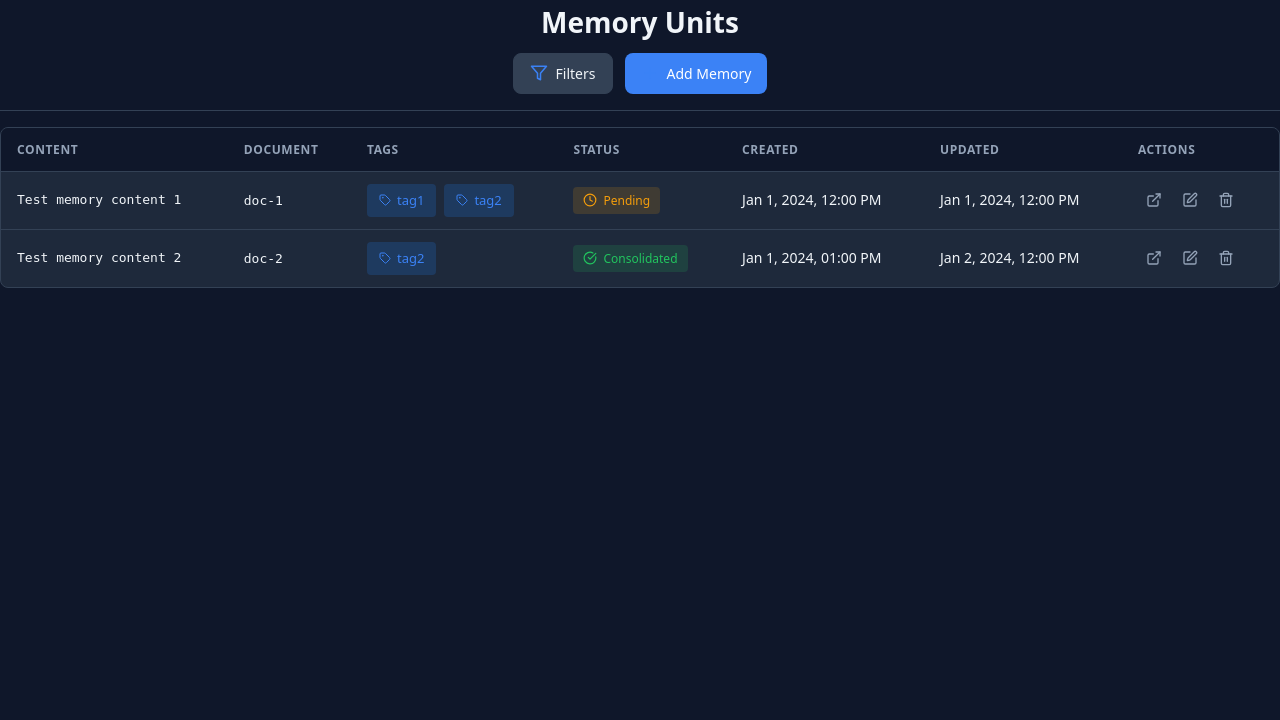
it: MemoryListPage › opens edit form when edit button clicked
Click the button named "Edit" in the row of "Test memory content 1".
click(1190, 200)  # box [1174,184,1206,216]
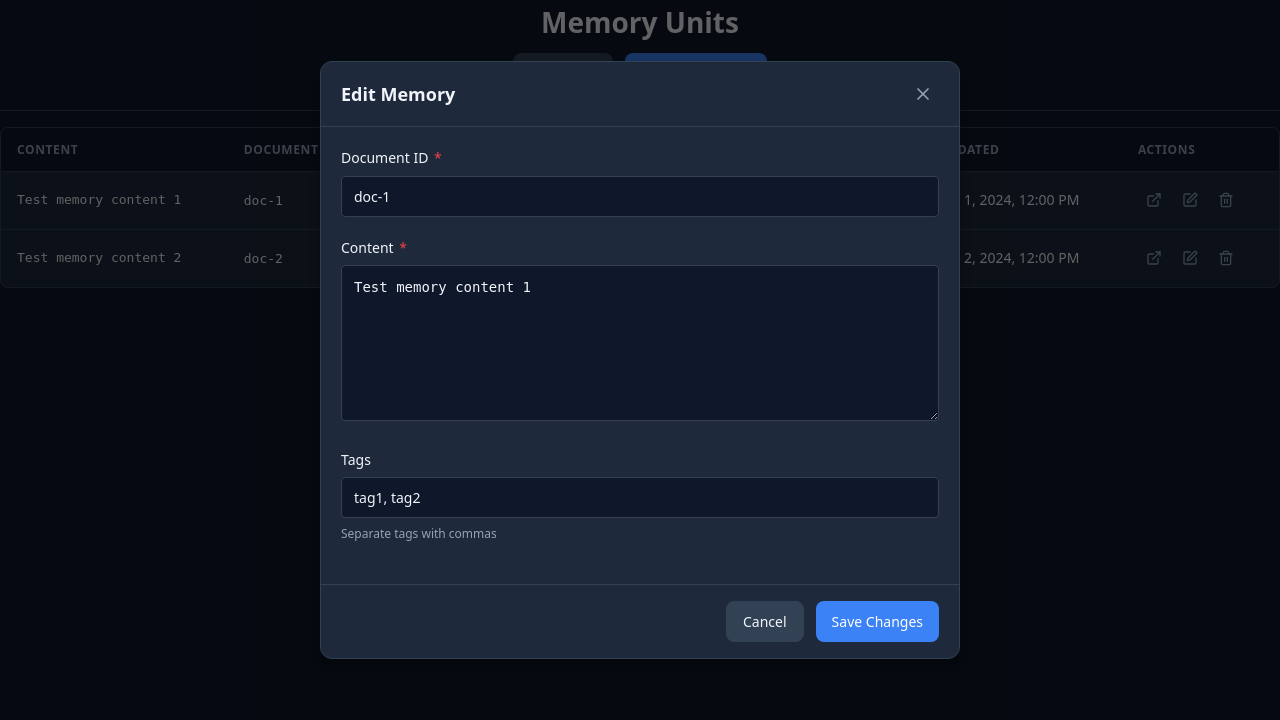
Result: the heading "Edit Memory" is shown at [341,80,455,109]
Result: the field labelled "Document ID *" holds "doc-1" at [341,176,939,217]
Result: the text box labelled "Content *" holds "Test memory content 1" at [341,265,939,421]
